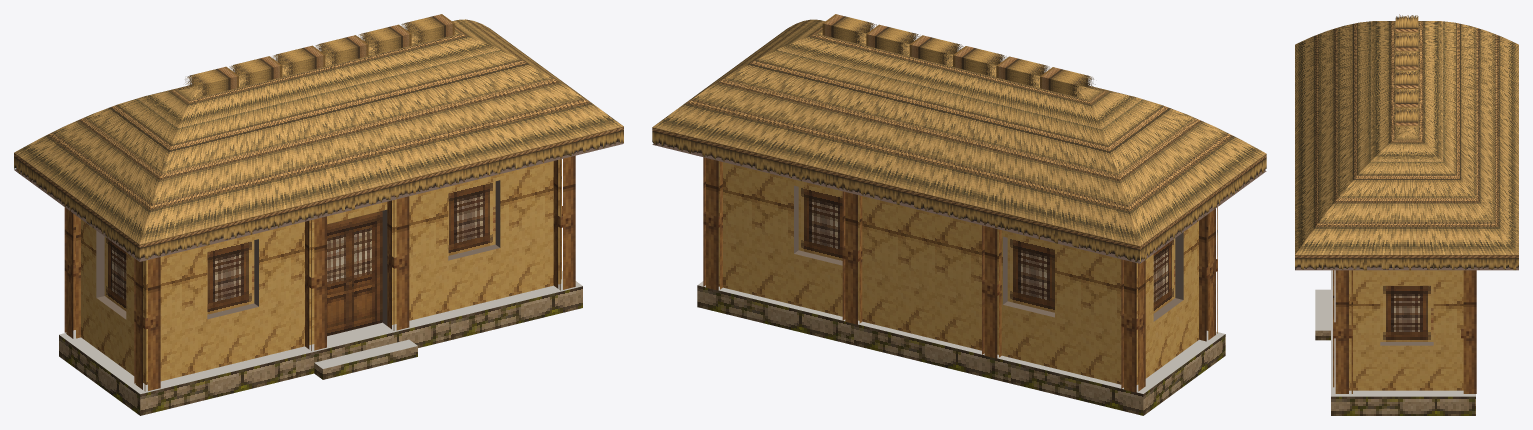
Rendered from b_hut_o2.glb.
The picture shows the model from 3 angles, left to right: view 1: azimuth 30°, elevation 25°; view 2: azimuth 150°, elevation 25°; view 3: azimuth 270°, elevation 25°; orthographic projection. The views are drawn at different scales.
Parts seen in each view (by area): view 1: roof, plaster, post, stone, eave, win, door, ridge, stonetop, reveal, under; view 2: roof, plaster, post, stone, eave, win, ridge, stonetop, reveal, under; view 3: roof, plaster, post, win, stone, eave, ridge, stonetop, under.
Part boxes in pixels (x1,y1,x2,y2): roof: (14, 19, 623, 244); plaster: (81, 159, 561, 384); post: (64, 155, 575, 391); stone: (59, 286, 582, 415); eave: (14, 126, 623, 259); win: (104, 181, 495, 314); door: (327, 211, 382, 335); ridge: (185, 14, 454, 97); stonetop: (59, 271, 582, 393); reveal: (96, 180, 500, 325); under: (14, 141, 623, 261); roof: (652, 19, 1266, 246); plaster: (718, 161, 1198, 384); post: (703, 157, 1217, 392); stone: (697, 285, 1225, 415); eave: (652, 127, 1266, 262); win: (798, 187, 1175, 313); ridge: (822, 14, 1095, 97); stonetop: (698, 281, 1224, 393); reveal: (794, 185, 1183, 321); under: (652, 143, 1266, 263); roof: (1295, 21, 1518, 254); plaster: (1349, 270, 1463, 390); post: (1333, 270, 1476, 393); win: (1380, 285, 1433, 341); stone: (1315, 330, 1475, 415); eave: (1295, 255, 1518, 270); ridge: (1395, 14, 1418, 126); stonetop: (1315, 270, 1475, 396); under: (1295, 267, 1518, 270).
Bounding box in the file's own units: 70 × 38.73 × 31.46.
Materials: 13 (9 with a texture image).
